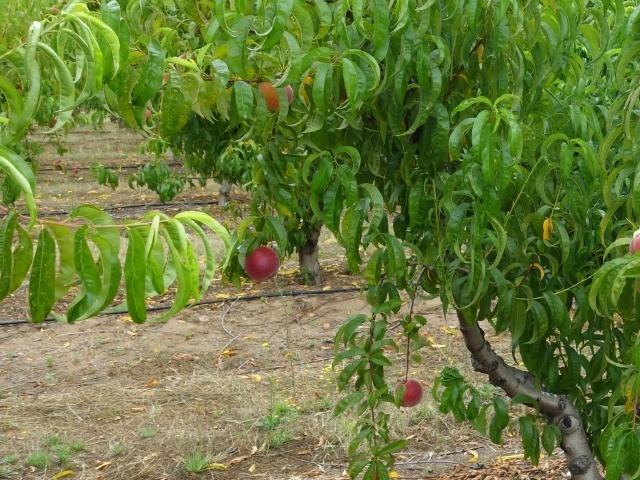peach: (240, 241, 283, 285), (253, 74, 295, 113), (391, 375, 425, 409)
